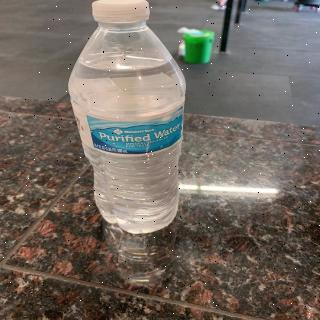Plastic-bottle: (68, 1, 191, 235)
